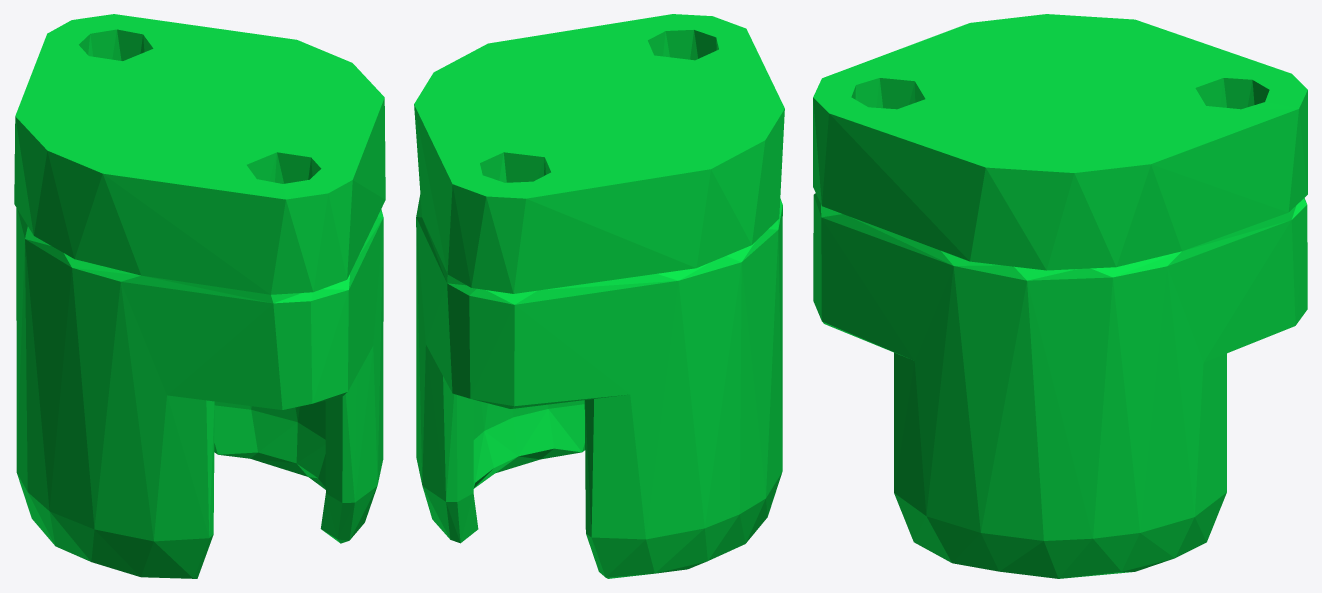
File: caster_wheel_support.dae
3 views of the same model, side by side, from view 1: azimuth 30°, elevation 25°; view 2: azimuth 150°, elevation 25°; view 3: azimuth 270°, elevation 25° (orthographic). The views are drawn at different scales.
Visible parts, largest first — view 1: caster_wheel; view 2: caster_wheel; view 3: caster_wheel.
Boxes of the visible parts, x1,y1,x2,y2 form: caster_wheel: (14, 14, 385, 578); caster_wheel: (414, 14, 784, 578); caster_wheel: (813, 14, 1307, 578).
Size of the model in its own units: 0.0175 by 0.023 by 0.0214.
